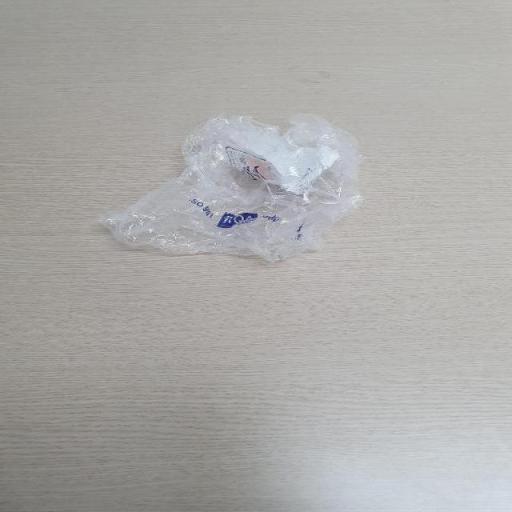plastic-bag: (99, 110, 368, 268)
